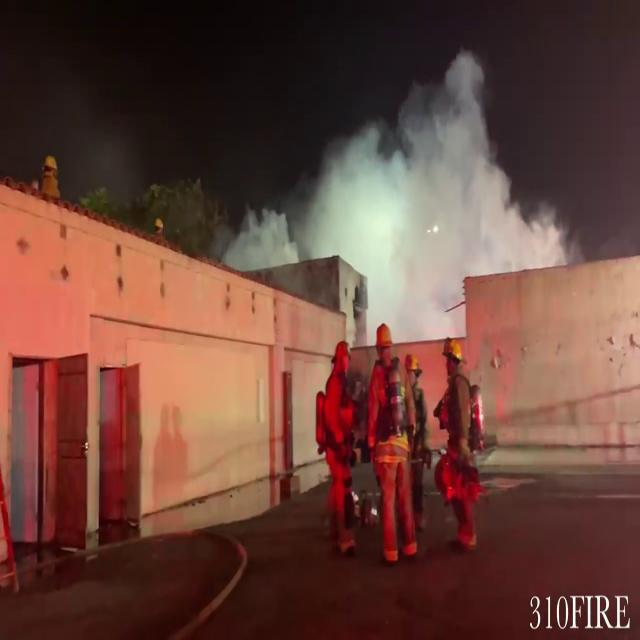Smoke: (315, 38, 581, 310), (219, 202, 308, 282)
